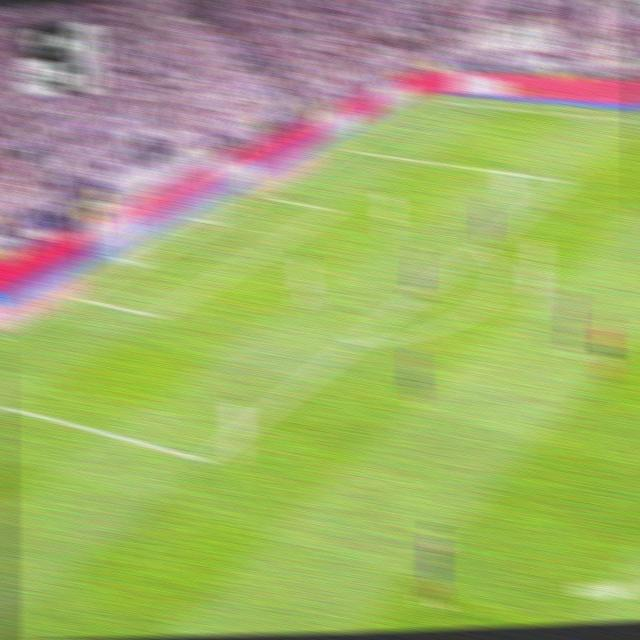bigarea_bottom_inner: (193, 445, 216, 473)
bigarea_top_inner: (557, 170, 575, 191)
bigarea_top_outter: (342, 141, 358, 155)
bottom_arc_area_intersection: (346, 329, 368, 354)
corner: (428, 94, 447, 105)
smallarea_top_inner: (324, 201, 339, 216)
top_arc_area_intersection: (471, 237, 491, 255)
